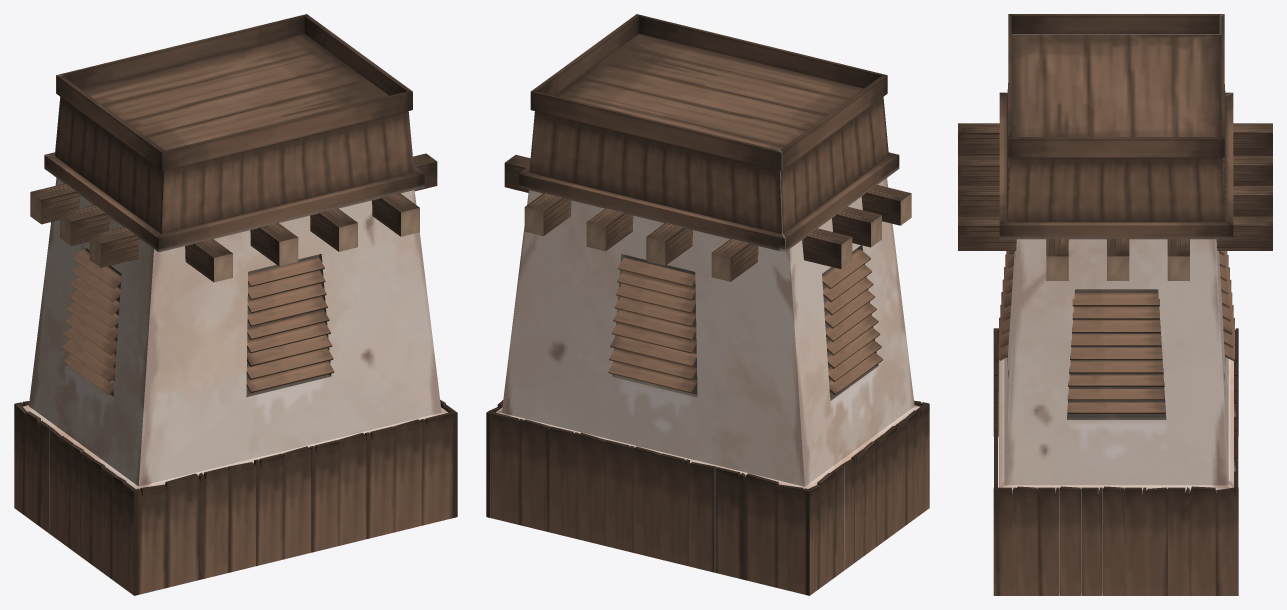
The model's file is Structure_3.FBX.
3 views of the same model, side by side, from view 1: azimuth 30°, elevation 25°; view 2: azimuth 150°, elevation 25°; view 3: azimuth 270°, elevation 25° (orthographic). The views are drawn at different scales.
Visible parts, largest first — view 1: Z3_Structure_3; view 2: Z3_Structure_3; view 3: Z3_Structure_3.
Part boxes in pixels (bbox=[...]): Z3_Structure_3: bbox=[14, 14, 457, 595]; Z3_Structure_3: bbox=[486, 14, 929, 595]; Z3_Structure_3: bbox=[958, 14, 1272, 595].
Size of the model in its own units: 500 by 610 by 397.
